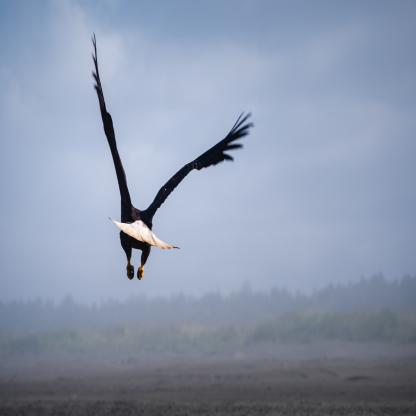bird: (91, 32, 254, 280)
